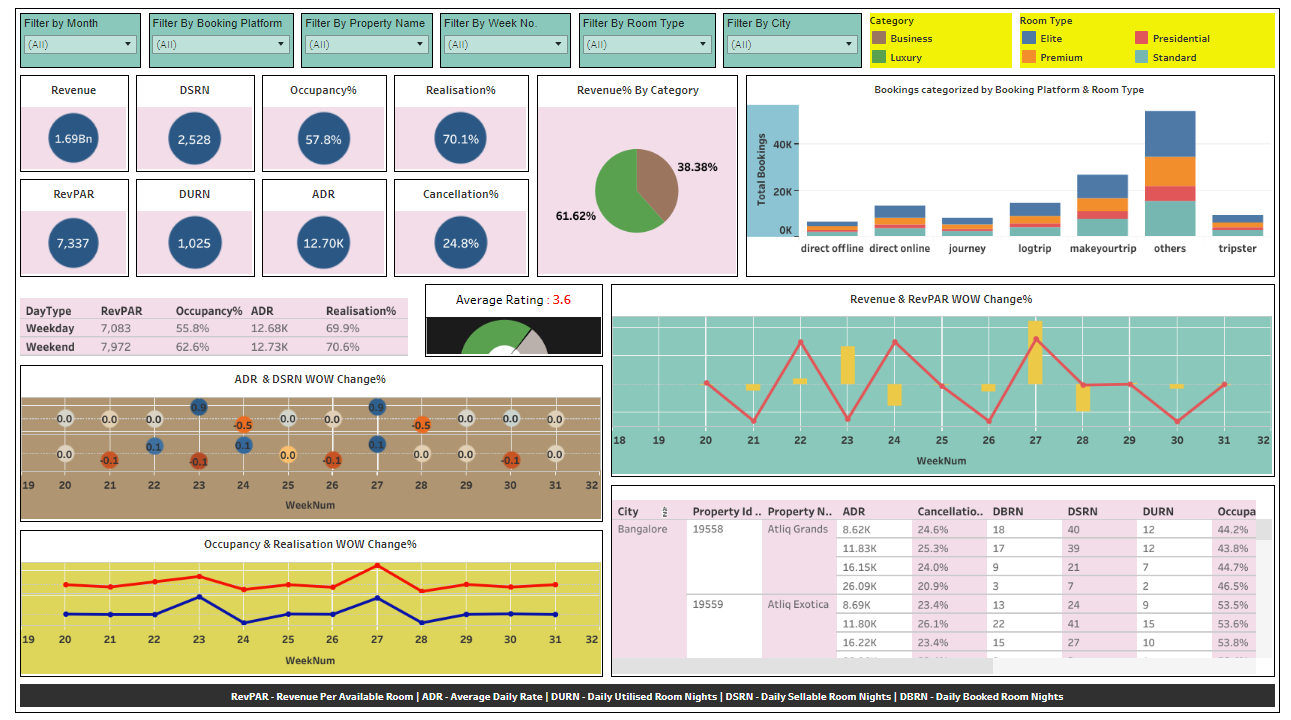

What the dashboard file says about the page in this screenshot:
{"tool":"tableau","page":{"name":"Dashboard","canvas":[1366,768],"ordinal":0},"visuals":[{"type":"filter","title":"Overview","param":"[federated.0slrr0w0icqxld196sfln0lje8ji].[my:mmm yy:ok]","box":[10,10,137,66]},{"type":"filter","title":"Overview","param":"[federated.0slrr0w0icqxld196sfln0lje8ji].[none:booking_platform:nk]","box":[147,10,163,66]},{"type":"filter","title":"Overview","param":"[federated.0slrr0w0icqxld196sfln0lje8ji].[none:property_name:nk]","box":[310,10,147.8,66]},{"type":"filter","title":"Overview","param":"[federated.0slrr0w0icqxld196sfln0lje8ji].[none:week no:nk]","box":[457.8,10,147.8,66]},{"type":"filter","title":"Overview","param":"[federated.0slrr0w0icqxld196sfln0lje8ji].[none:room_class:nk]","box":[605.7,10,154.6,66]},{"type":"filter","title":"Overview","param":"[federated.0slrr0w0icqxld196sfln0lje8ji].[none:city:nk]","box":[760.2,10,156,66]},{"type":"legend","title":"Revenue By Category","param":"[federated.0slrr0w0icqxld196sfln0lje8ji].[none:category:nk]","box":[916.2,10,160,66]},{"type":"legend","title":"Realisation% and ADR by Platform","param":"[federated.0slrr0w0icqxld196sfln0lje8ji].[none:room_class:nk]","box":[1076.2,10,279.8,66]},{"type":"worksheet","title":"Revenue","mark":"Circle","box":[10,76,123.6,110.6]},{"type":"worksheet","title":"DSRN","mark":"Circle","box":[133.6,76,134.6,110.6]},{"type":"worksheet","title":"Occupancy%","mark":"Circle","box":[268.2,76,140.6,110.6]},{"type":"worksheet","title":"Realisation%","mark":"Circle","box":[408.8,76,152.6,110.6]},{"type":"worksheet","title":"Revenue By Category","mark":"Pie","box":[561.4,76,222.6,223]},{"type":"worksheet","title":"Realisation% and ADR by Platform","mark":"Bar","rows":["Calculation_497084822202961949"],"cols":["booking_platform"],"box":[784,76,572,223]},{"type":"worksheet","title":"RevPAR","mark":"Circle","box":[10,186.6,123.6,112.5]},{"type":"worksheet","title":"DURN","mark":"Circle","box":[133.6,186.6,134.6,112.5]},{"type":"worksheet","title":"ADR","mark":"Circle","box":[268.2,186.6,140.6,112.5]},{"type":"worksheet","title":"Cancellation%","mark":"Circle","box":[408.8,186.6,152.6,112.5]},{"type":"worksheet","title":"DayType Overview","mark":"Polygon","rows":["Calculation_497084822165889024","vtavg","vtavg","vtavg","vtavg"],"box":[10,299,432,86.3]},{"type":"worksheet","title":"Avg. Rating Given","mark":"Pie","rows":["Calculation_497084824325709919","Calculation_497084824326090849"],"box":[442,299,198.1,86.3]},{"type":"worksheet","title":"Revenue & RevPAR WOW Change %","mark":"Automatic","cols":["Calculation_497084822166384641"],"box":[640.1,299,715.9,213.5]},{"type":"worksheet","title":"ADR & DSRN WOW Change %","mark":"Circle","rows":["Occupancy WOW Change%  (copy)_497084822479876161","Revenue WOW Change% (copy)_497084822489198667"],"cols":["Calculation_497084822166384641"],"box":[10,385.4,630.1,175.8]},{"type":"worksheet","title":"Overview","mark":"Automatic","rows":["city","property_id (dim!hotels)","property_name","Calculation_497084822230970416","vtsum","vtsum","vtsum","vtsum","vtsum","vtsum","vtsum","room_class"],"cols":["Calculation_497084822206435362","Calculation_497084822202523676"],"box":[640.1,512.5,715.9,213.5]},{"type":"worksheet","title":"Occupancy & Realisation WOW Change","mark":"Automatic","cols":["Calculation_497084822166384641"],"box":[10,561.1,630.1,164.9]},{"type":"text","box":[10,726,1346,32]}]}

Visuals, with their boxes in screenshot pixels (x1, y1, x2, y2), scaled from the page's 1366x768 canvas onto the 1291x720 screenshot:
"Overview" filter: 9,9,139,71
"Overview" filter: 139,9,293,71
"Overview" filter: 293,9,433,71
"Overview" filter: 433,9,572,71
"Overview" filter: 572,9,719,71
"Overview" filter: 718,9,866,71
"Revenue By Category" legend: 866,9,1017,71
"Realisation% and ADR by Platform" legend: 1017,9,1282,71
"Revenue" worksheet (Circle marks): 9,71,126,175
"DSRN" worksheet (Circle marks): 126,71,253,175
"Occupancy%" worksheet (Circle marks): 253,71,386,175
"Realisation%" worksheet (Circle marks): 386,71,531,175
"Revenue By Category" worksheet (Pie marks): 531,71,741,280
"Realisation% and ADR by Platform" worksheet (Bar marks): 741,71,1282,280
"RevPAR" worksheet (Circle marks): 9,175,126,280
"DURN" worksheet (Circle marks): 126,175,253,280
"ADR" worksheet (Circle marks): 253,175,386,280
"Cancellation%" worksheet (Circle marks): 386,175,531,280
"DayType Overview" worksheet (Polygon marks): 9,280,418,361
"Avg. Rating Given" worksheet (Pie marks): 418,280,605,361
"Revenue & RevPAR WOW Change %" worksheet: 605,280,1282,480
"ADR & DSRN WOW Change %" worksheet (Circle marks): 9,361,605,526
"Overview" worksheet: 605,480,1282,681
"Occupancy & Realisation WOW Change" worksheet: 9,526,605,681
text: 9,681,1282,711
